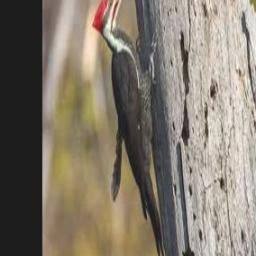Woodpecker: (92, 0, 167, 256)
